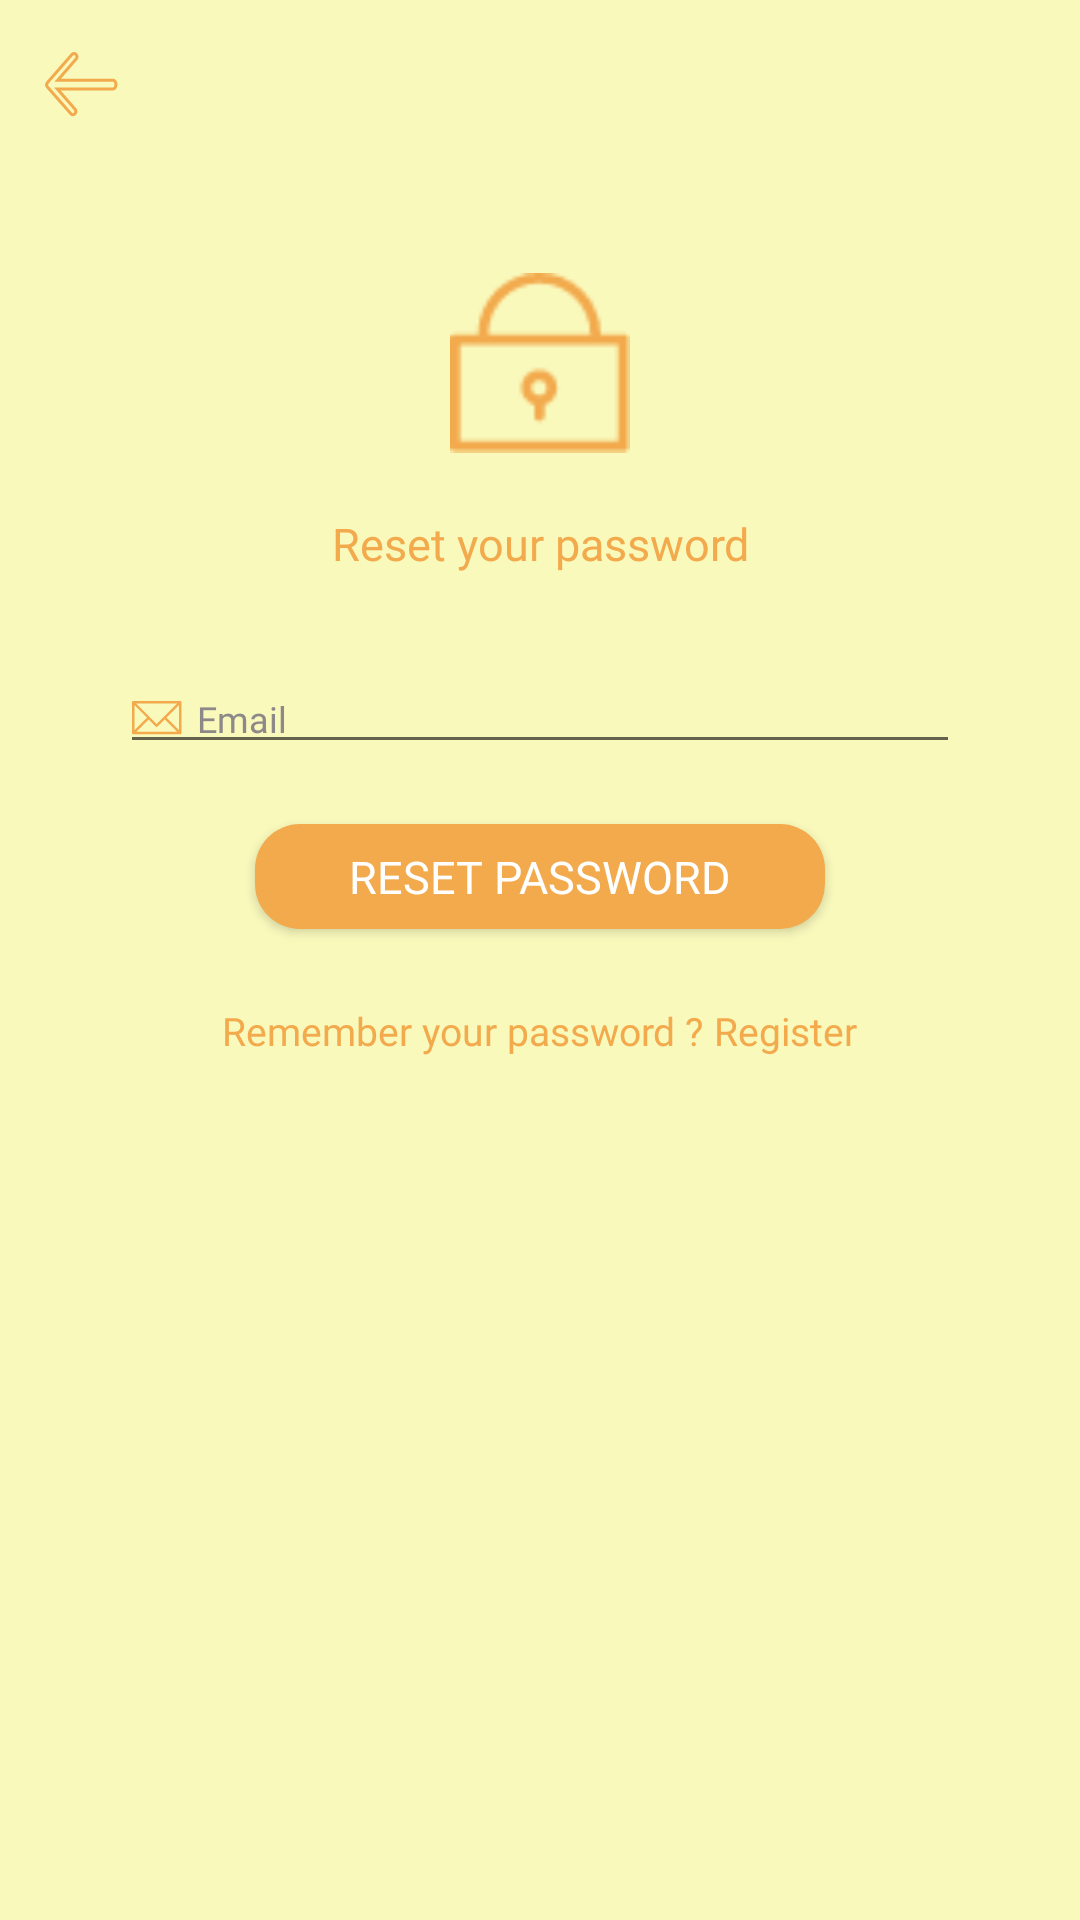

Screen size 1080px x 1920px. Icon name, then its center in pixels as point (x, y):
back: point (81, 84)
lock: point (540, 363)
